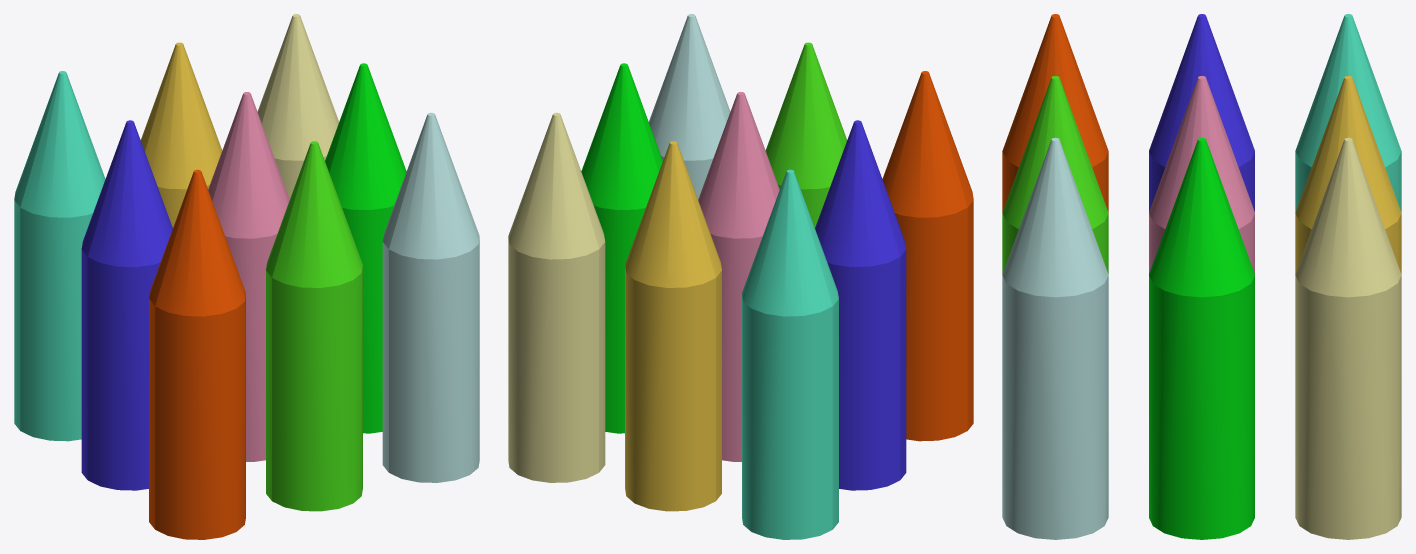
Rendered from eff_effectproxies_firework_rocket_submeshes.fbx.
3 views of the same model, side by side, from view 1: azimuth 30°, elevation 25°; view 2: azimuth 150°, elevation 25°; view 3: azimuth 270°, elevation 25° (orthographic). The views are drawn at different scales.
Parts seen in each view (by area): view 1: p_mesh_fireworksbox_7, p_mesh_fireworksbox_4, p_mesh_fireworksbox_1, p_mesh_fireworksbox_2, p_mesh_fireworksbox_3, p_mesh_fireworksbox_8, p_mesh_fireworksbox_5, p_mesh_fireworksbox_9, p_mesh_fireworksbox_6; view 2: p_mesh_fireworksbox_9, p_mesh_fireworksbox_6, p_mesh_fireworksbox_3, p_mesh_fireworksbox_2, p_mesh_fireworksbox_1, p_mesh_fireworksbox_8, p_mesh_fireworksbox_5, p_mesh_fireworksbox_7, p_mesh_fireworksbox_4; view 3: p_mesh_fireworksbox_9, p_mesh_fireworksbox_7, p_mesh_fireworksbox_8, p_mesh_fireworksbox_3, p_mesh_fireworksbox_1, p_mesh_fireworksbox_6, p_mesh_fireworksbox_4, p_mesh_fireworksbox_5, p_mesh_fireworksbox_2.
Part boxes in pixels (x1,y1,x2,y2): p_mesh_fireworksbox_7: [382, 112, 479, 482]; p_mesh_fireworksbox_4: [266, 141, 362, 511]; p_mesh_fireworksbox_1: [149, 169, 245, 539]; p_mesh_fireworksbox_2: [81, 120, 172, 490]; p_mesh_fireworksbox_3: [14, 71, 105, 441]; p_mesh_fireworksbox_8: [325, 63, 406, 433]; p_mesh_fireworksbox_5: [208, 92, 289, 461]; p_mesh_fireworksbox_9: [257, 14, 338, 199]; p_mesh_fireworksbox_6: [140, 42, 222, 227]; p_mesh_fireworksbox_9: [508, 112, 605, 482]; p_mesh_fireworksbox_6: [625, 141, 721, 511]; p_mesh_fireworksbox_3: [742, 169, 838, 539]; p_mesh_fireworksbox_2: [815, 120, 906, 490]; p_mesh_fireworksbox_1: [882, 71, 973, 441]; p_mesh_fireworksbox_8: [581, 63, 662, 433]; p_mesh_fireworksbox_5: [698, 92, 779, 461]; p_mesh_fireworksbox_7: [649, 14, 730, 199]; p_mesh_fireworksbox_4: [765, 42, 847, 227]; p_mesh_fireworksbox_9: [1295, 137, 1401, 539]; p_mesh_fireworksbox_7: [1002, 137, 1108, 539]; p_mesh_fireworksbox_8: [1149, 138, 1254, 539]; p_mesh_fireworksbox_3: [1295, 14, 1401, 212]; p_mesh_fireworksbox_1: [1002, 14, 1108, 212]; p_mesh_fireworksbox_6: [1295, 76, 1401, 274]; p_mesh_fireworksbox_4: [1002, 76, 1108, 274]; p_mesh_fireworksbox_5: [1149, 76, 1254, 273]; p_mesh_fireworksbox_2: [1149, 14, 1254, 211].
Bounding box in the file's own units: 2.32 × 2.42 × 2.32.
